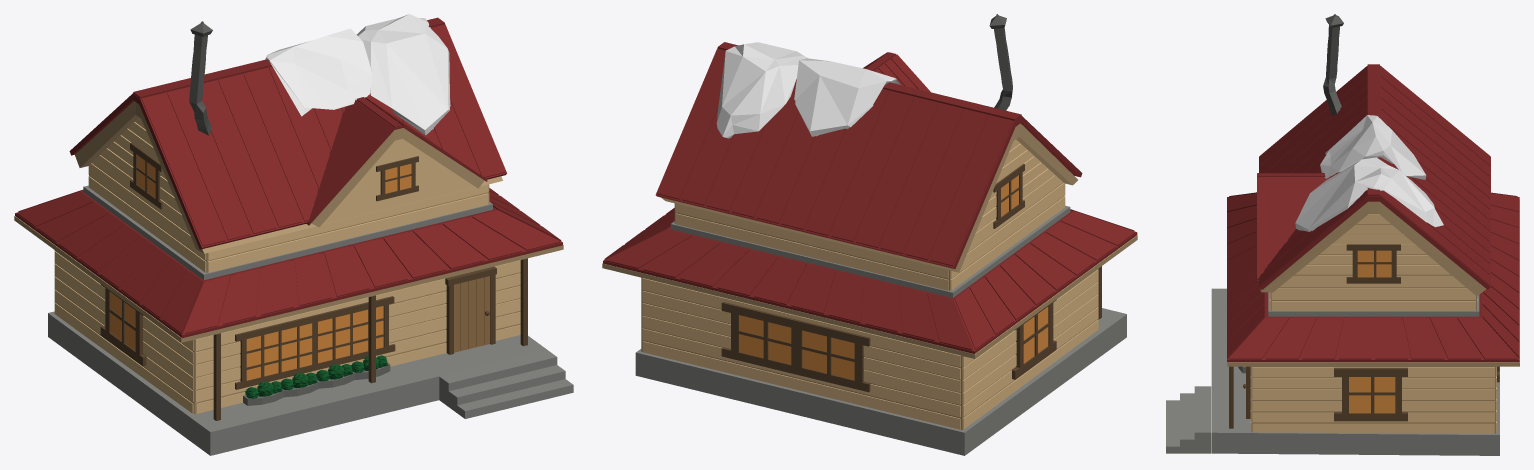
The model's file is FH_House3.fbx.
3 renders of one model, left to right at view 1: azimuth 30°, elevation 25°; view 2: azimuth 150°, elevation 25°; view 3: azimuth 270°, elevation 25°, orthographic. The views are drawn at different scales.
Parts seen in each view (by area): view 1: Cube.061; view 2: Cube.061; view 3: Cube.061.
Part boxes in pixels (x1,y1,x2,y2): Cube.061: (14,14,573,455); Cube.061: (602,14,1137,455); Cube.061: (1166,14,1519,455).
Size of the model in its own units: 4384 by 4051 by 4016.
